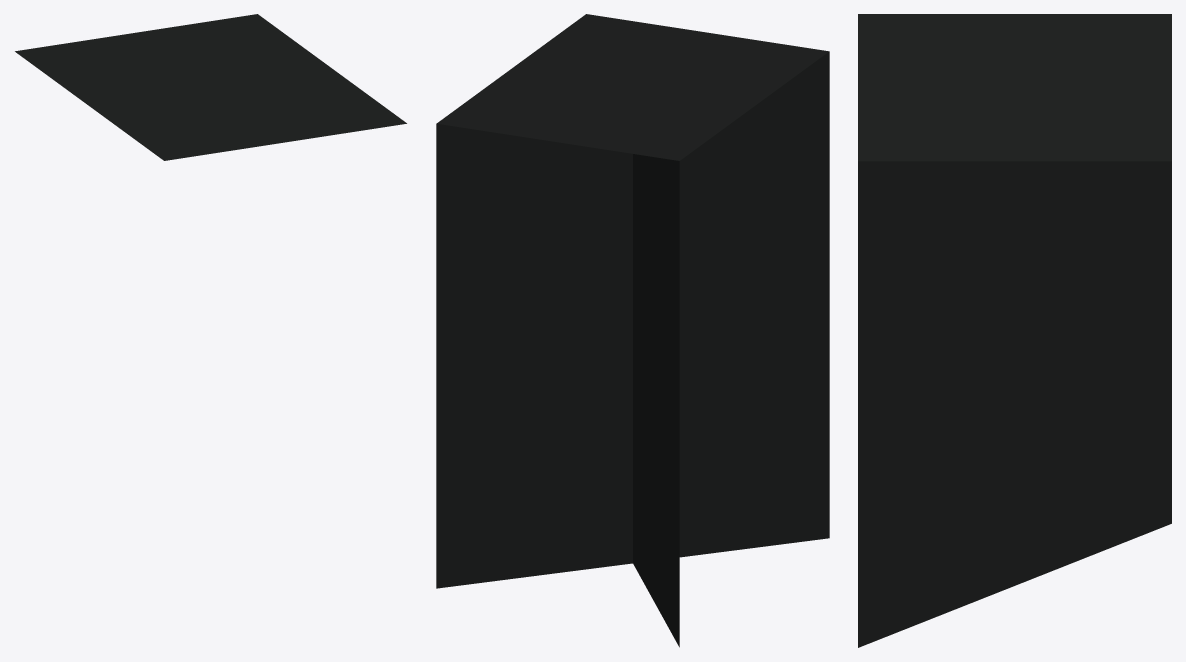
Rendered from AMB_KODATE_D4_01.glb.
3 renders of one model, left to right at view 1: azimuth 30°, elevation 25°; view 2: azimuth 150°, elevation 25°; view 3: azimuth 270°, elevation 25°, orthographic. The views are drawn at different scales.
Visible parts, largest first — view 1: BASE; view 2: BASE; view 3: BASE.
Boxes of the visible parts, x1,y1,x2,y2 form: BASE: [15, 14, 406, 160]; BASE: [436, 14, 829, 647]; BASE: [858, 14, 1171, 647].
Size of the model in its own units: 49.34 by 94.38 by 52.64.
1 material, 1 textured.
